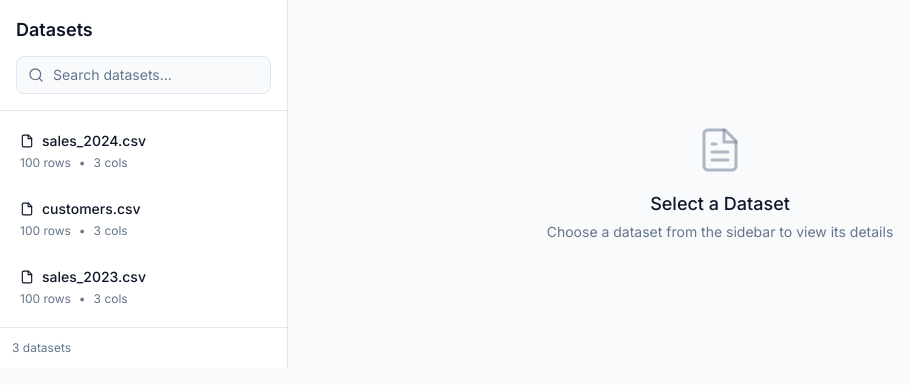
Test case: DatasetManager › Search Functionality › should filter datasets by name
Type "sales" into the field with placeholder "Search datasets...".
click(144, 75); type("sales")  # box x1=16 y1=56 x2=271 y2=94
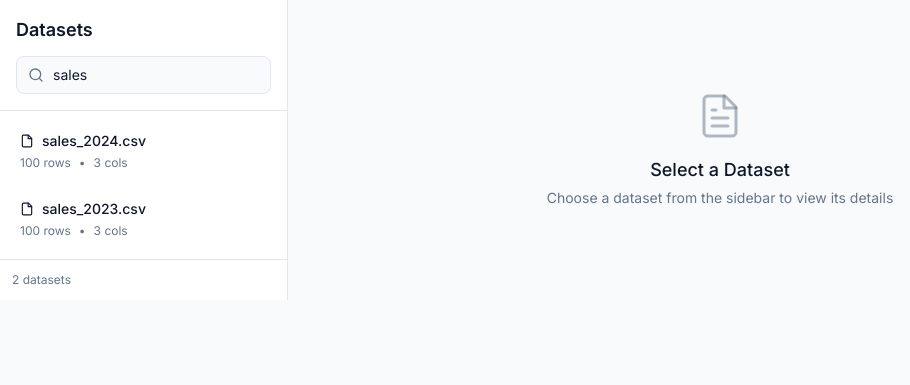
Expected: the text "sales_2024.csv" is shown, x1=42 y1=131 x2=146 y2=151
Expected: the button "customers.csv" is gone
